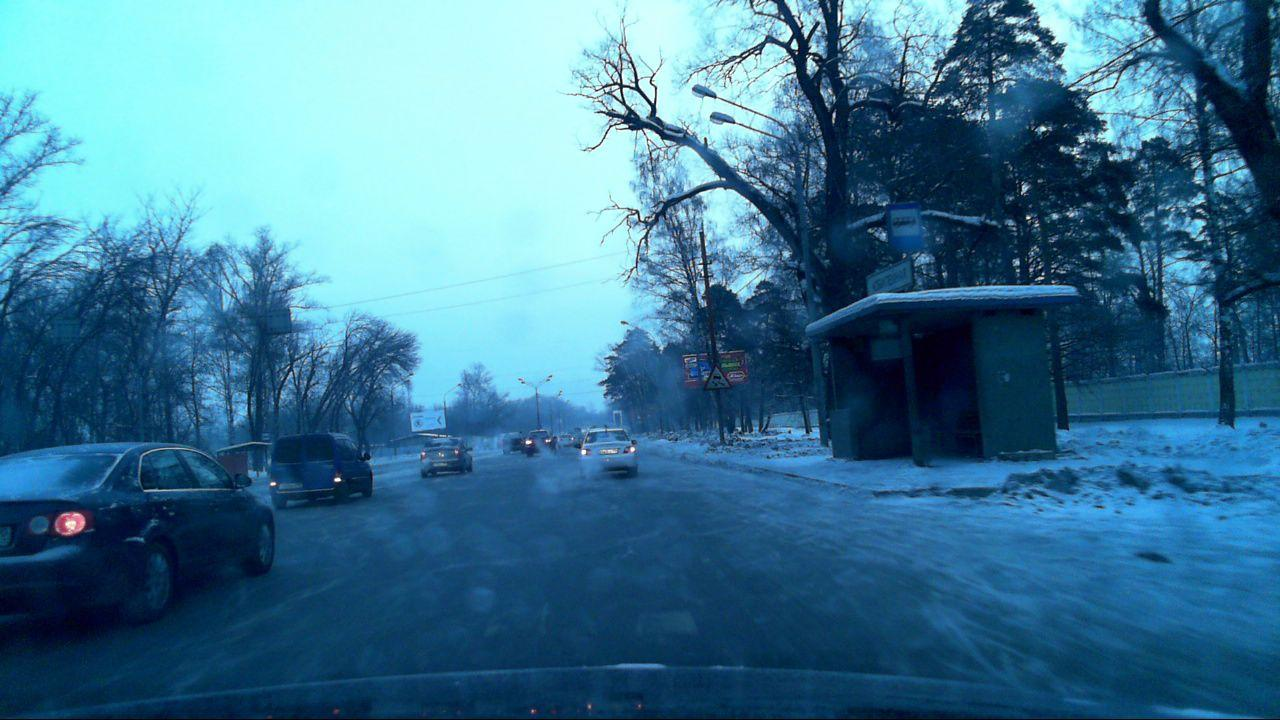1_15: (704, 365, 732, 390)
5_16: (886, 203, 924, 253)
